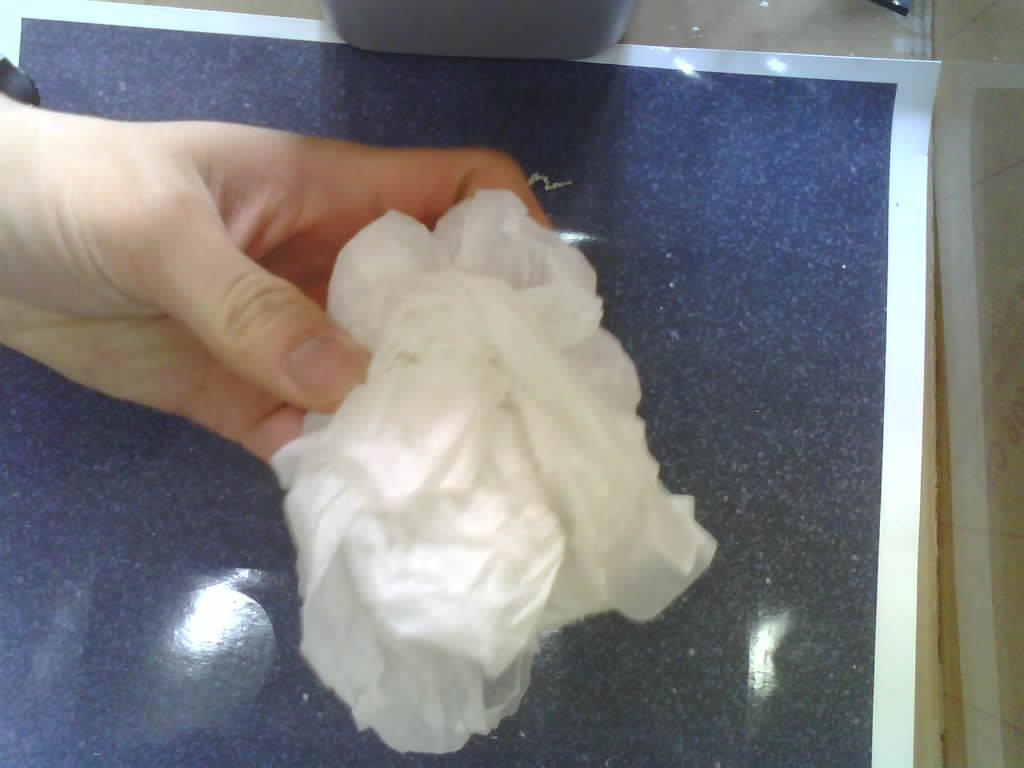paper: (272, 190, 716, 752)
